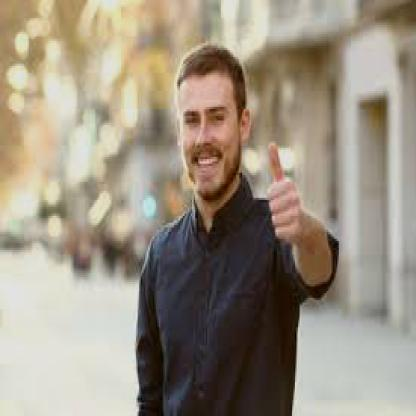Thumbs up: (268, 128, 302, 254)
